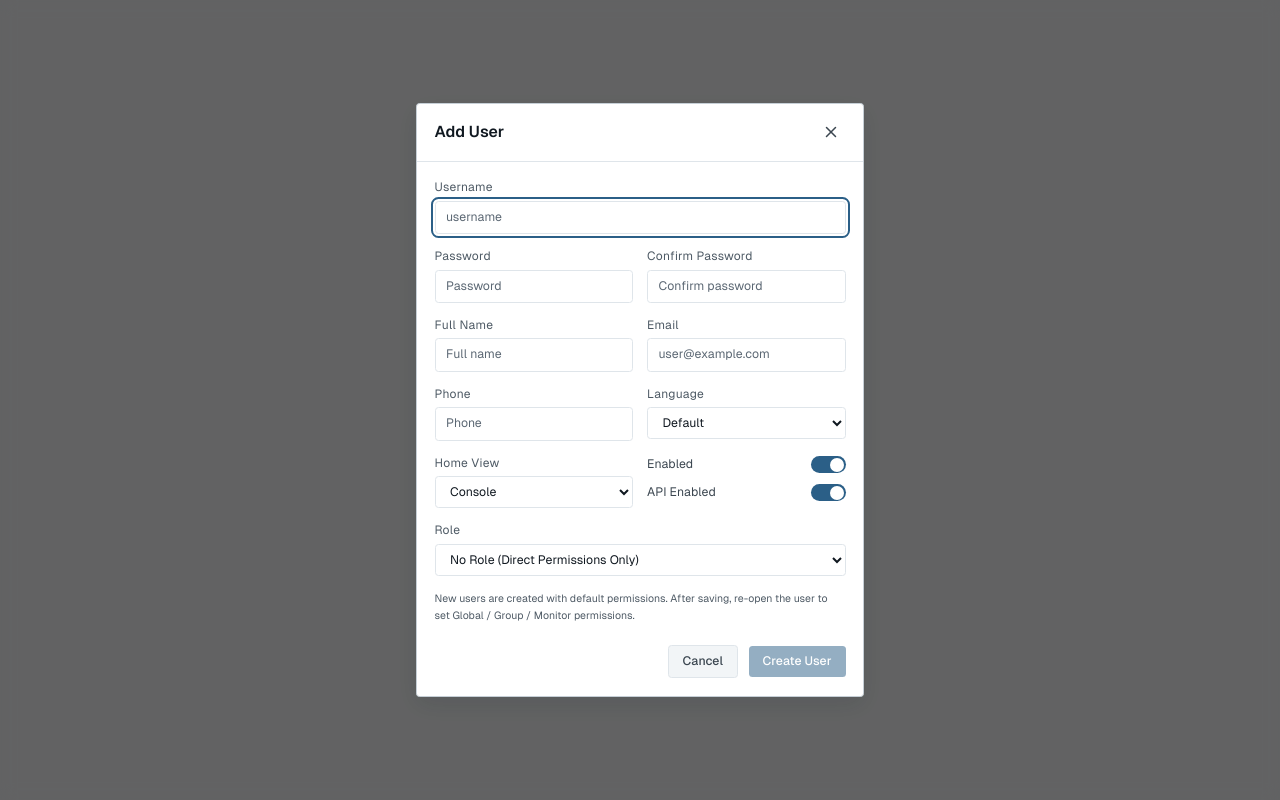
Test: UserEditor — create › rejects a username with characters legacy would not accept
The width and height of the screenshot is (1280, 800).
Type "bad/name" into the field with placeholder "Username".
click(640, 217); type("bad/name")  # box [434,201,846,234]
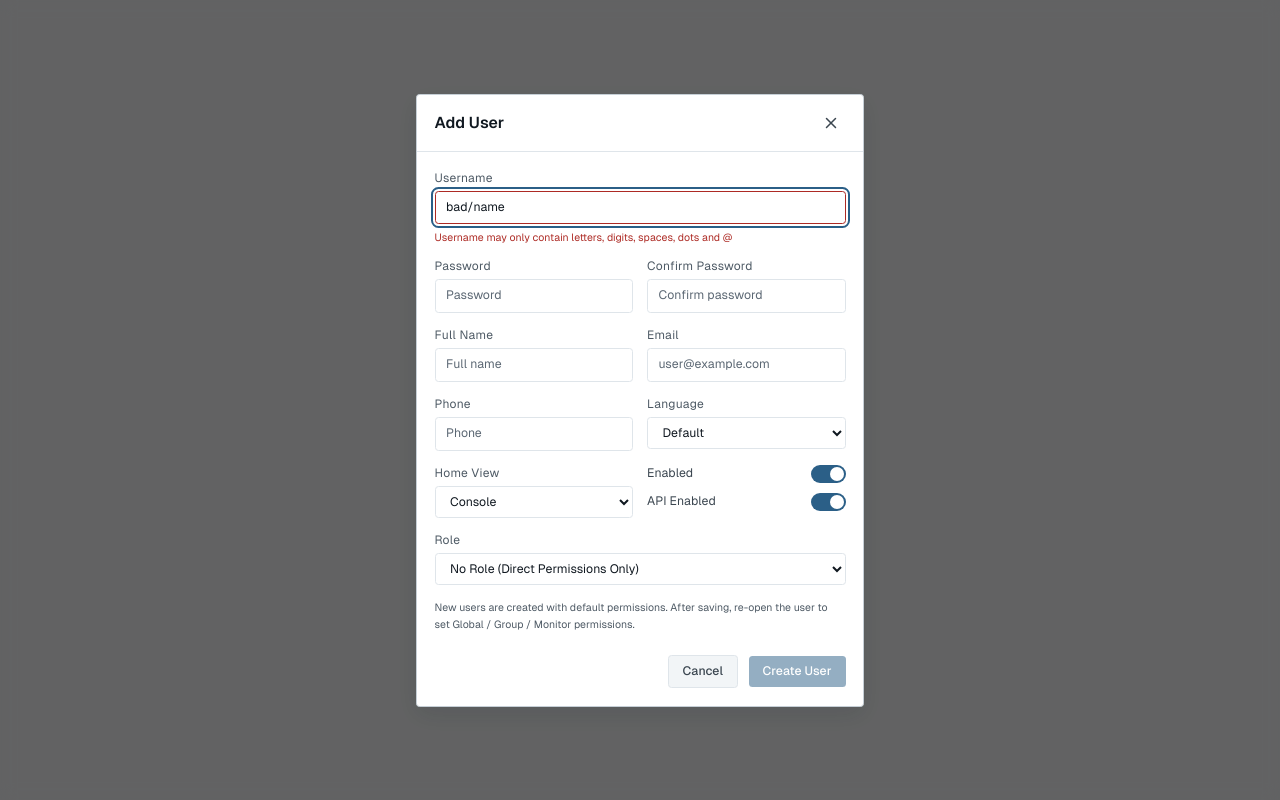
Expected: the button "Create User" is disabled, [749,656,846,687]
Expected: the message reads "Username may only contain letters, digits, spaces, dots and @", [434,231,732,243]
